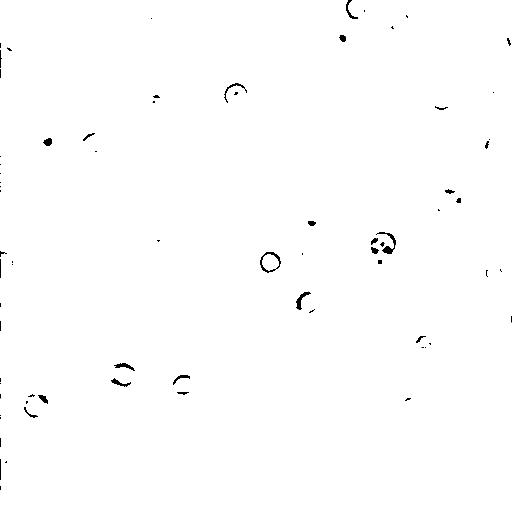micro-algae: (110, 1, 191, 57), (92, 371, 143, 419), (330, 251, 378, 299), (193, 239, 235, 278), (2, 377, 38, 420), (431, 179, 474, 213), (326, 19, 363, 57), (289, 203, 329, 238), (30, 126, 64, 158), (358, 243, 393, 272), (416, 205, 447, 237), (368, 229, 399, 258), (485, 130, 511, 164), (106, 361, 137, 388), (396, 394, 426, 421), (1, 448, 23, 484), (80, 129, 109, 156), (22, 391, 51, 418), (223, 81, 250, 108), (112, 28, 137, 57), (143, 0, 175, 21), (257, 250, 284, 274), (171, 372, 198, 396), (1, 52, 27, 76), (388, 9, 413, 33), (429, 86, 453, 111), (483, 257, 504, 285), (344, 0, 367, 20), (415, 331, 439, 350), (144, 224, 167, 243), (1, 250, 15, 278), (1, 45, 14, 68), (483, 81, 498, 98), (300, 244, 316, 259), (505, 22, 512, 52), (0, 303, 8, 324), (507, 310, 512, 328)
